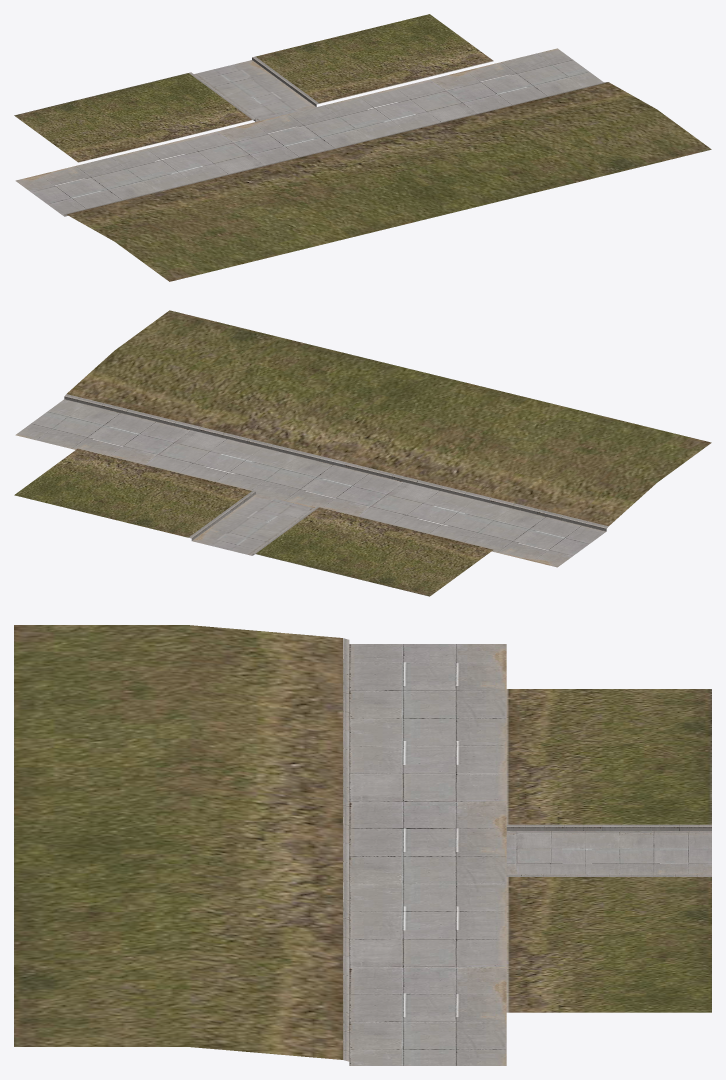
The model's file is OutSide.FBX.
The picture shows the model from 3 angles, top to bottom: view 1: azimuth 30°, elevation 25°; view 2: azimuth 150°, elevation 25°; view 3: azimuth 270°, elevation 25°; orthographic projection. The views are drawn at different scales.
Parts seen in each view (by area): view 1: OutSide; view 2: OutSide; view 3: OutSide.
Part boxes in pixels (box(x1,y1,x2,y2)): OutSide: box(14, 14, 711, 281); OutSide: box(14, 310, 711, 596); OutSide: box(14, 625, 711, 1065).
Size of the model in its own units: 4886 by 102 by 3416.
Materials: 1 (1 with a texture image).
